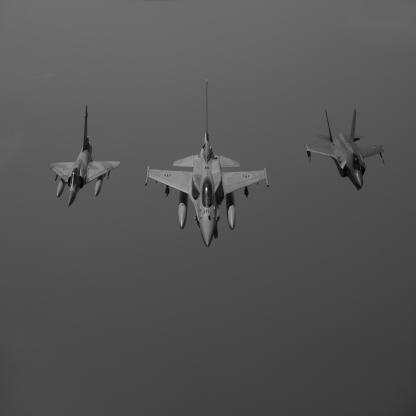F16: (146, 81, 270, 249)
F35: (307, 109, 386, 192)
Mirage2000: (51, 106, 121, 208)
